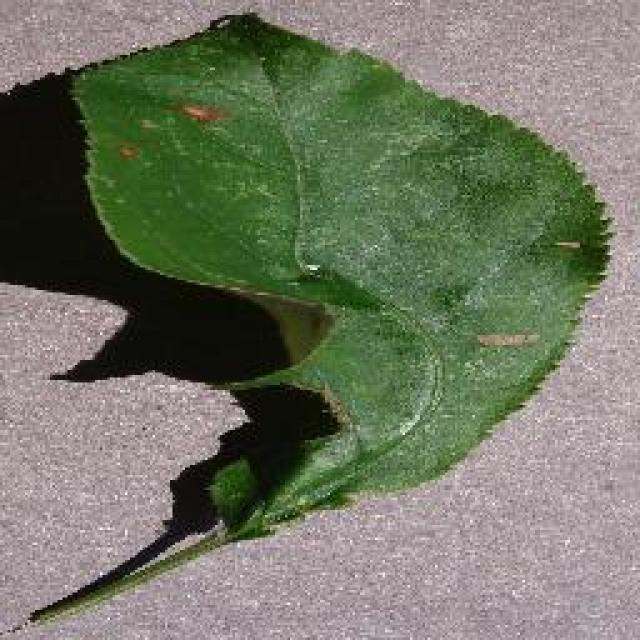Apple___Black_rot: (45, 7, 640, 556)
